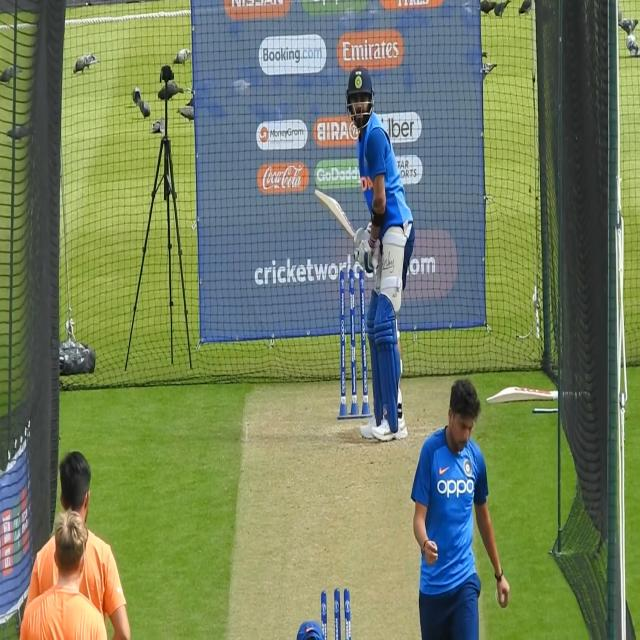stump: (338, 269, 370, 423)
